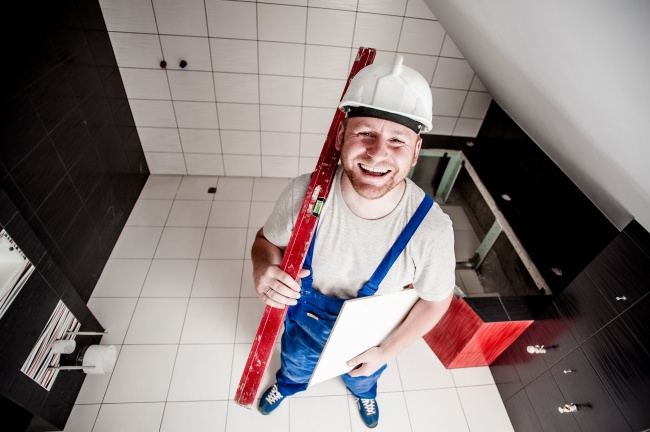safetyhat: (229, 48, 474, 415)
